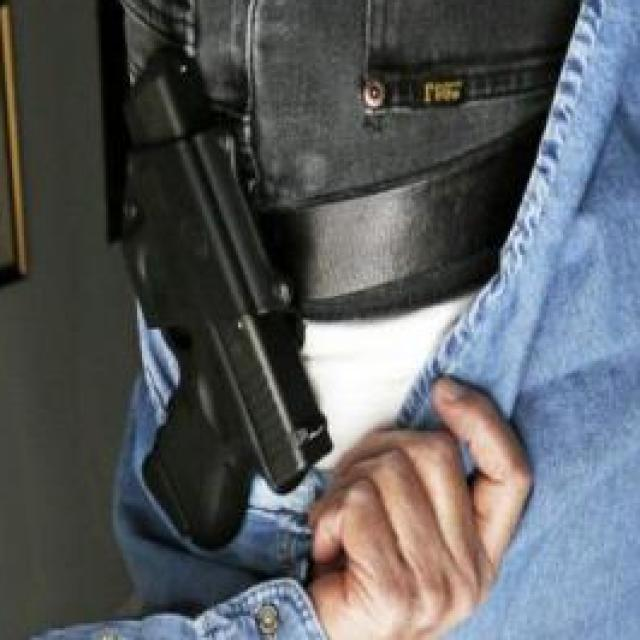pistol: (94, 31, 340, 556)
